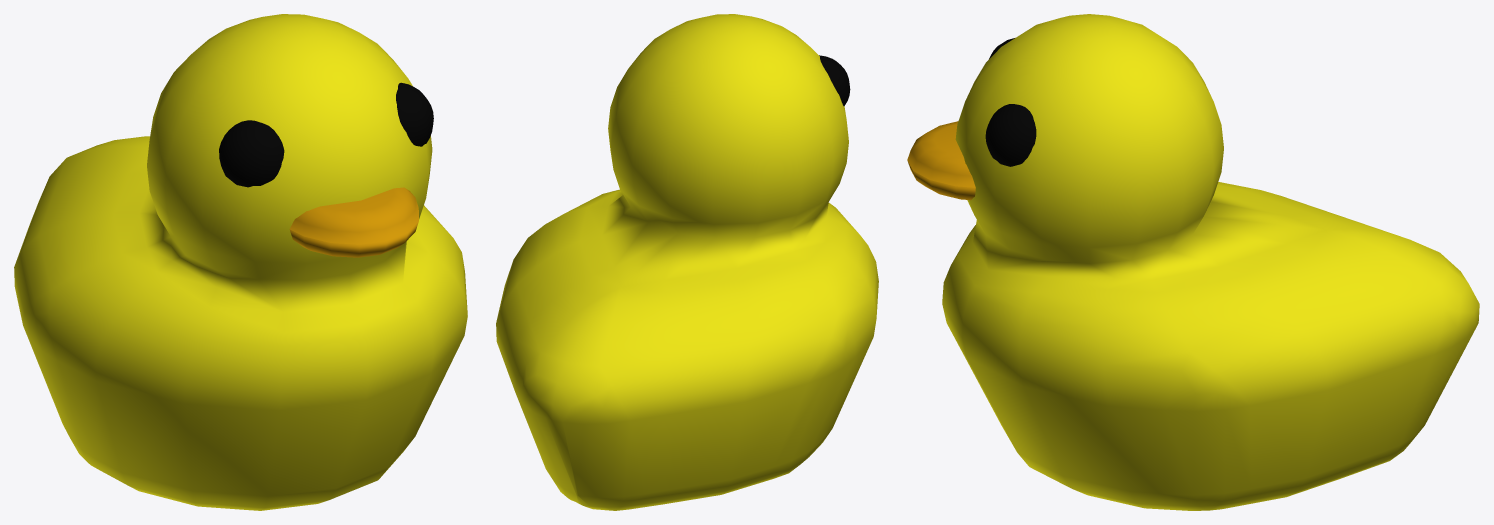
File: Duck.fbx
3 views of the same model, side by side, from view 1: azimuth 30°, elevation 25°; view 2: azimuth 150°, elevation 25°; view 3: azimuth 270°, elevation 25° (orthographic). The views are drawn at different scales.
Visible parts, largest first — view 1: duck; view 2: duck; view 3: duck.
Boxes of the visible parts, x1,y1,x2,y2 form: duck: (14, 14, 467, 510); duck: (496, 14, 878, 510); duck: (907, 14, 1479, 510).
Bounding box in the file's own units: 18.74 × 21.18 × 25.5.
